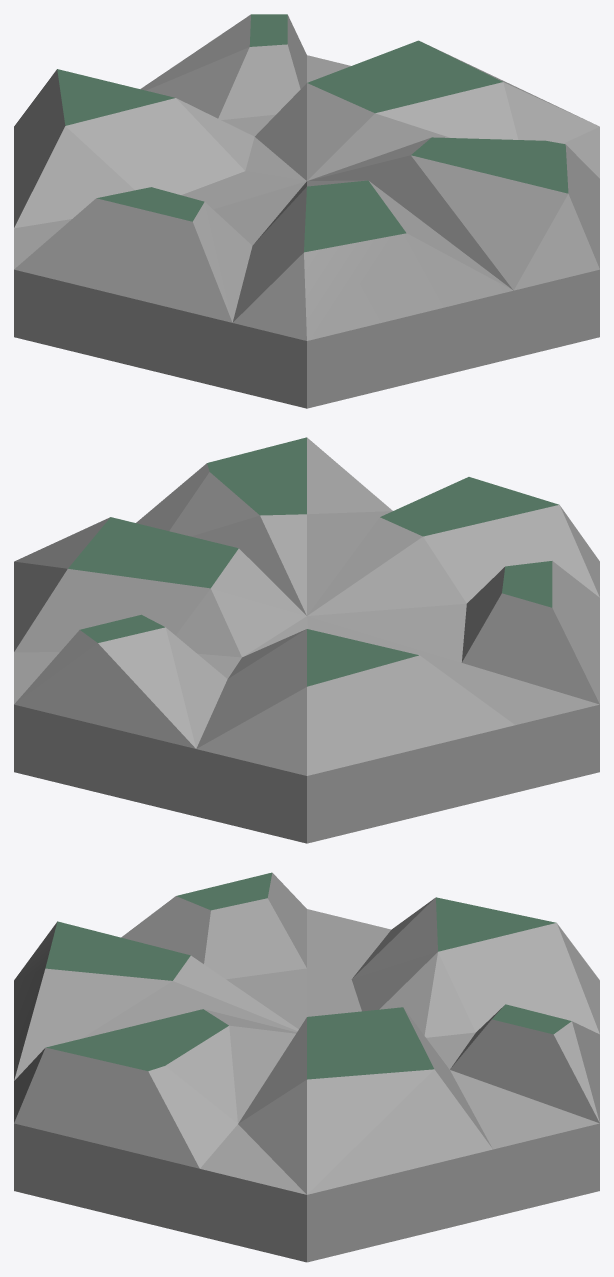
The model's file is Hex08.fbx.
The picture shows the model from 3 angles, top to bottom: view 1: azimuth 30°, elevation 25°; view 2: azimuth 150°, elevation 25°; view 3: azimuth 270°, elevation 25°; orthographic projection.
Parts seen in each view (by area): view 1: Hex08; view 2: Hex08; view 3: Hex08.
Boxes of the visible parts, x1,y1,x2,y2 form: Hex08: (14, 14, 599, 408); Hex08: (14, 437, 599, 843); Hex08: (14, 872, 599, 1262).
Bounding box in the file's own units: 1.67 × 0.3694 × 1.44.
